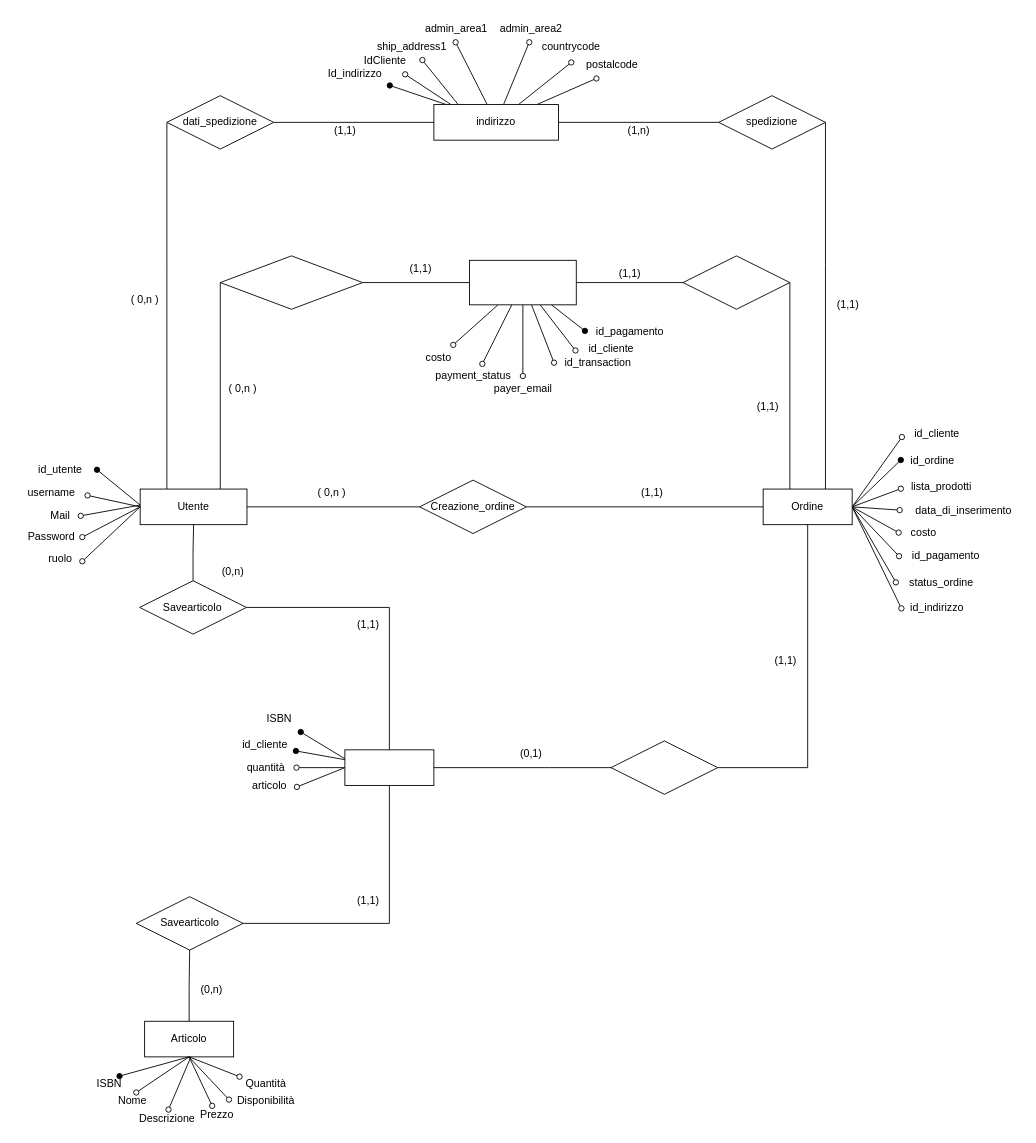
The diagram is 1036 pixels wide and 1143 high, and some of its shapes have lost their labels. The centre of each missing label's shape, as x and y in pixels:
articolo-ordine: the point at 664,767
carrello: the point at 389,767
metodo_pagamento: the point at 291,282
pagamento: the point at 522,282
Transazione: the point at 736,282
